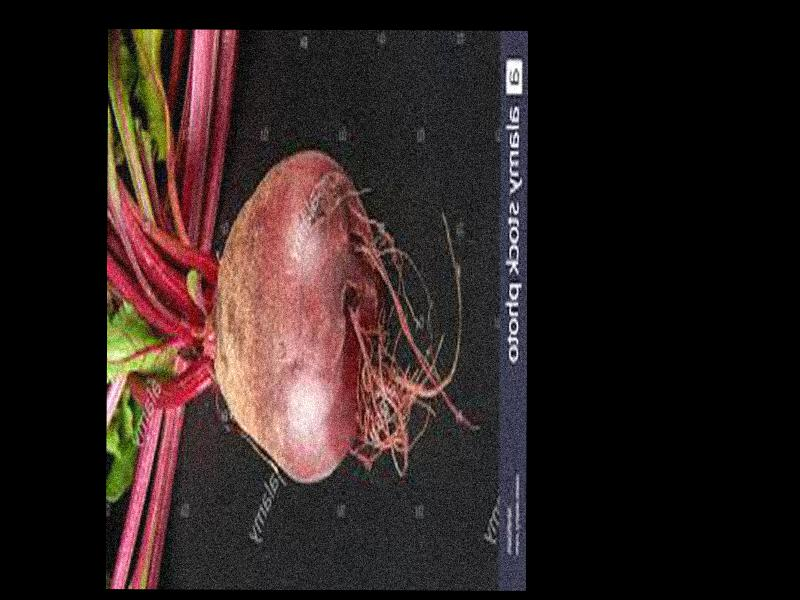Beet: (108, 32, 479, 486)
